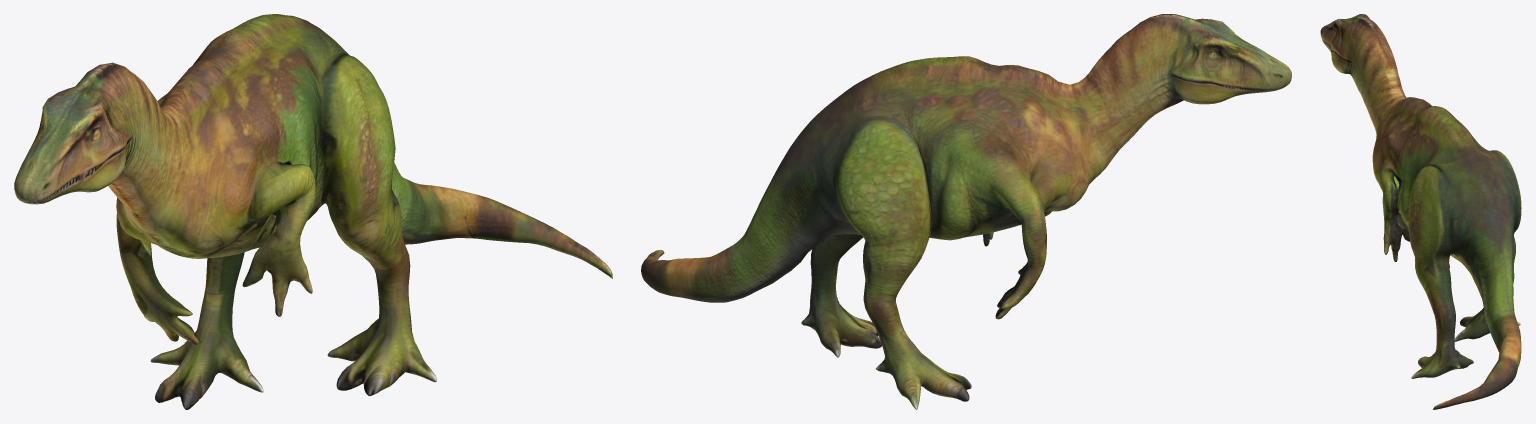
3 views of the same model, side by side, from view 1: azimuth 30°, elevation 25°; view 2: azimuth 150°, elevation 25°; view 3: azimuth 270°, elevation 25° (orthographic). The views are drawn at different scales.
Visible parts, largest first — view 1: Mesh0; view 2: Mesh0; view 3: Mesh0.
Part boxes in pixels (box(x1,y1,x2,y2)): Mesh0: box(14, 14, 612, 409); Mesh0: box(641, 14, 1291, 409); Mesh0: box(1320, 14, 1521, 409).
Size of the model in its own units: 0.075 by 0.0463 by 0.0326.
1 material, 1 textured.
